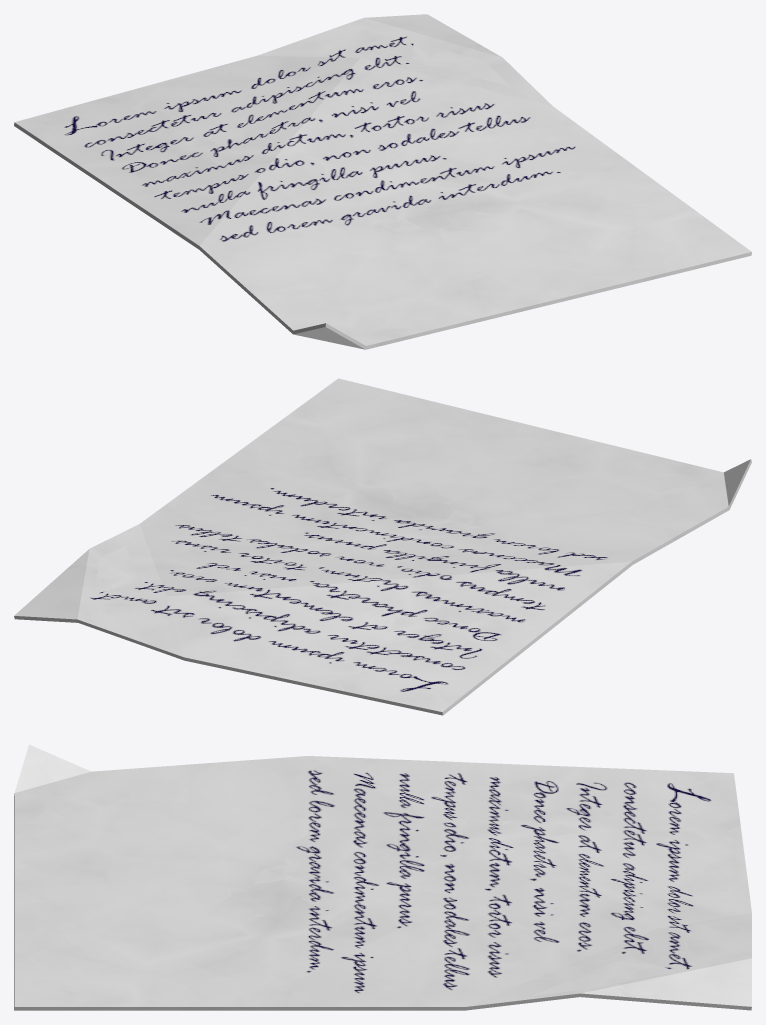
File: note.fbx
3 views of the same model, one above another, from view 1: azimuth 30°, elevation 25°; view 2: azimuth 150°, elevation 25°; view 3: azimuth 270°, elevation 25° (orthographic). The views are drawn at different scales.
Visible parts, largest first — view 1: note; view 2: note; view 3: note.
Part boxes in pixels (<box>): note: <box>14,14,751,349</box>; note: <box>14,378,751,715</box>; note: <box>14,744,751,1010</box>.
Size of the model in its own units: 15.88 by 21.01 by 1.06.
